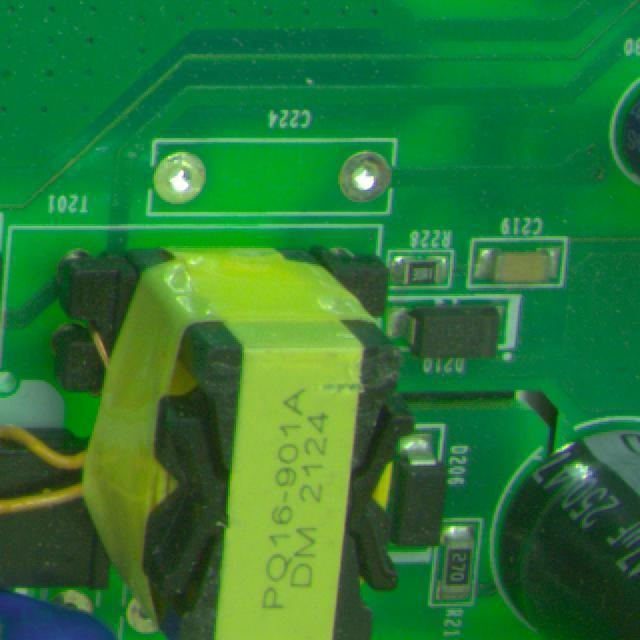Insufficient solder: (144, 147, 212, 212), (333, 147, 387, 207)
